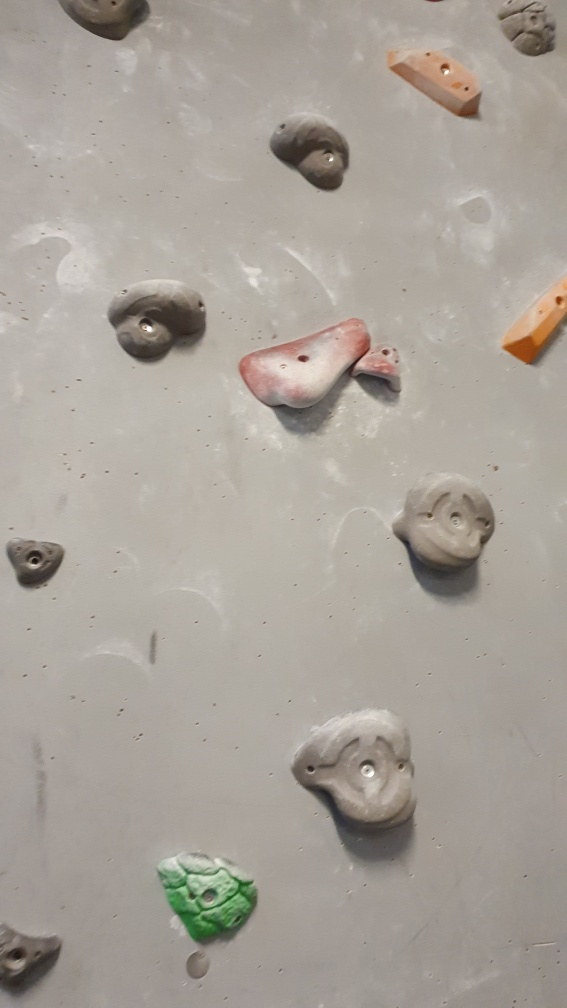Crimp: (3, 534, 68, 592)
Hand Start: (183, 946, 214, 984)
Jug: (290, 706, 417, 830), (393, 467, 496, 581), (106, 276, 210, 367), (269, 109, 355, 195), (493, 1, 559, 60)
Pinch: (385, 45, 486, 122), (497, 277, 567, 369)
